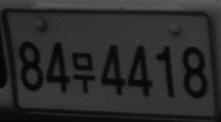1: (154, 45, 180, 98)
4: (126, 44, 154, 97), (100, 44, 126, 95), (45, 41, 70, 93)
8: (180, 44, 209, 100), (16, 39, 44, 92)
무: (70, 51, 96, 94)
